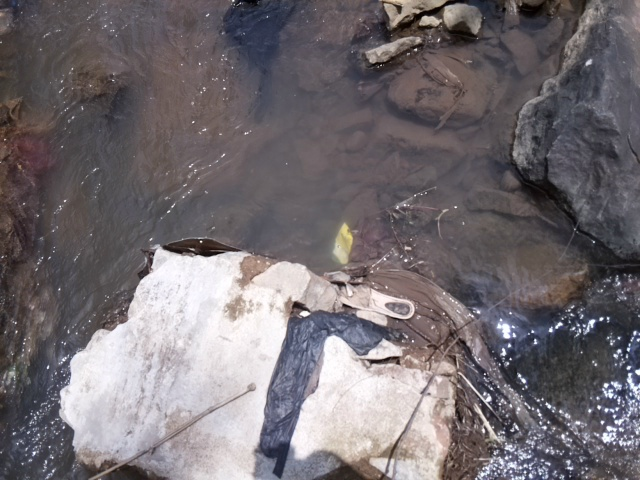Sampah_Plastik: (259, 311, 399, 479)
